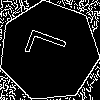L: (24, 26, 76, 69)
